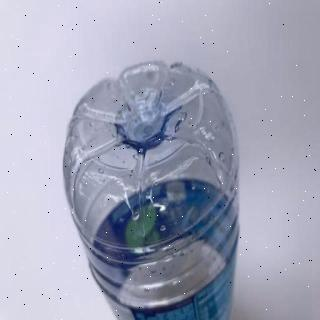Plastic-bottle: (63, 60, 241, 320)
